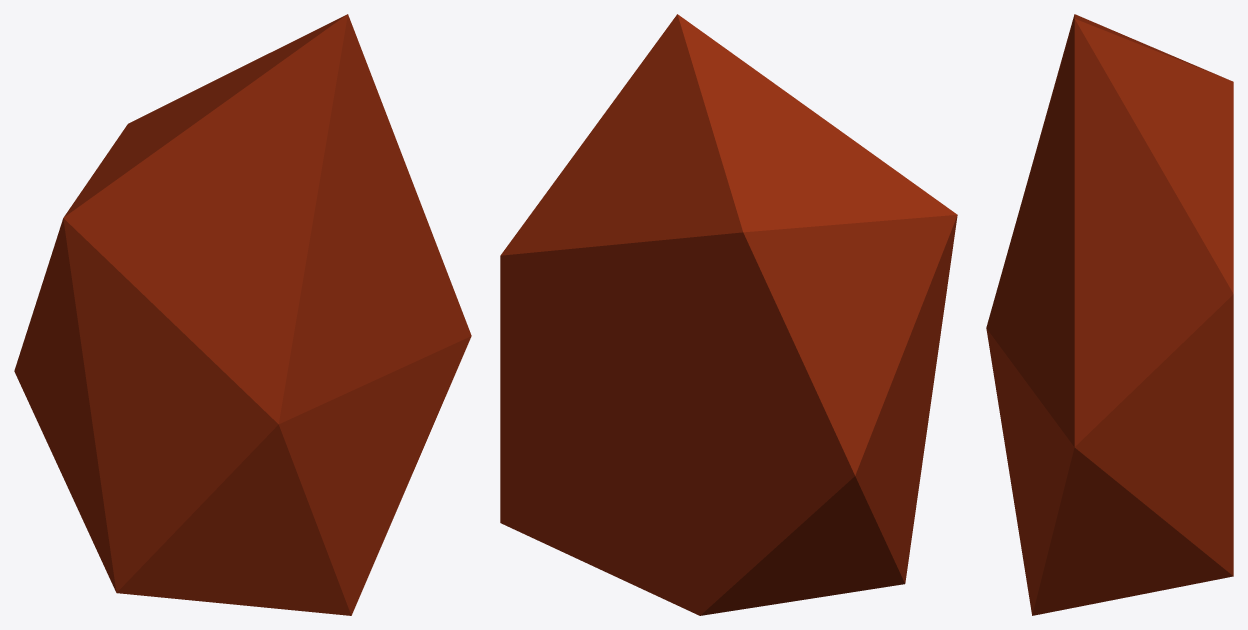
Rendered from st1_rock2.fbx.
3 renders of one model, left to right at view 1: azimuth 30°, elevation 25°; view 2: azimuth 150°, elevation 25°; view 3: azimuth 270°, elevation 25°, orthographic. The views are drawn at different scales.
Visible parts, largest first — view 1: Icosphere_002; view 2: Icosphere_002; view 3: Icosphere_002.
Part boxes in pixels (x1,y1,x2,y2): Icosphere_002: [14, 14, 471, 615]; Icosphere_002: [500, 14, 957, 615]; Icosphere_002: [986, 14, 1233, 615].
Size of the model in its own units: 137 by 187 by 69.09.
